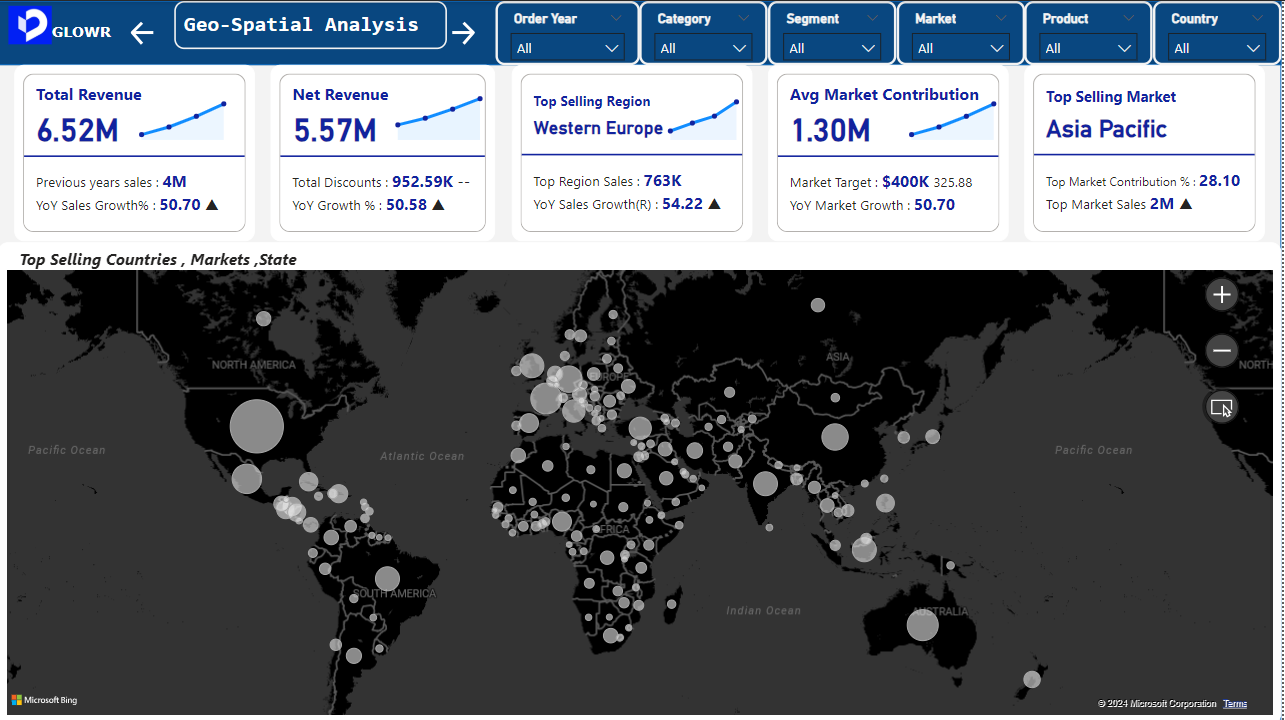

Layout of this report page (visuals, bound fields, positions):
{"tool":"powerbi","page":{"name":"GeoSpatial Sales Analysis ","canvas":[1280,720],"ordinal":3},"visuals":[{"type":"shape","box":[0,0,1280,720],"z":0},{"type":"shape","box":[0,0,1280,64],"z":1000},{"type":"image","box":[0,0,64,48],"z":2000},{"type":"textbox","box":[48,16,80,32],"z":3000},{"type":"slicer","fields":{"Values":["Category.Category"]},"box":[640,0,128,64],"z":4000},{"type":"slicer","fields":{"Values":["Market.Market"]},"box":[896,0,128,64],"z":5000},{"type":"slicer","fields":{"Values":["Segment.Segment"]},"box":[768,0,128,64],"z":6000},{"type":"slicer","fields":{"Values":["Products.Product"]},"box":[1024,0,128,64],"z":7000},{"type":"slicer","fields":{"Values":["Country.Country"]},"box":[1152,0,128,64],"z":8000},{"type":"slicer","fields":{"Values":["Date.Order Year"]},"box":[496,0,144,64],"z":9000},{"type":"textbox","box":[176,0,272,48],"z":10000},{"type":"cardVisual","fields":{"Data":["Fact Table.total sales"]},"box":[16,64,240,176],"z":11000},{"type":"lineChart","fields":{"Category":["Date.Order Year"],"Y":["Sum(Fact Table.Sales)"]},"box":[128,80,112,64],"z":12000},{"type":"cardVisual","fields":{"Data":["Category.Top Selling Region sales   :"]},"box":[512,64,240,176],"z":13000},{"type":"lineChart","fields":{"Category":["Date.Order Year"],"Y":["Category.Top Region  Sales :"]},"box":[656,80,96,64],"z":14000},{"type":"cardVisual","fields":{"Data":["Category.Top Selling Market"]},"box":[1024,64,240,176],"z":15000},{"type":"cardVisual","fields":{"Data":["Category.net sales"]},"box":[272,64,224,176],"z":16000},{"type":"lineChart","fields":{"Category":["Date.Order Year"],"Y":["Category.net sales"]},"box":[384,80,112,64],"z":17000},{"type":"cardVisual","fields":{"Data":["Category.Avg Market Contribution"]},"box":[768,64,240,176],"z":18000},{"type":"lineChart","fields":{"Category":["Date.Order Year"],"Y":["Category.Avg Market Contribution"]},"box":[896,80,112,64],"z":19000},{"type":"map","title":" ","fields":{"Category":["Country.Country","Market.Market","State.State"],"Size":["Fact Table.total sales"]},"box":[0,240,1280,480],"z":20000},{"type":"textbox","box":[16,240,336,48],"z":21000},{"type":"actionButton","box":[448,16,32,32],"z":22000},{"type":"actionButton","box":[128,16,48,32],"z":23000}]}

Visuals, with their boxes in screenshot pixels (x1, y1, x2, y2), scaled from the page's 1280x720 canvas onto the 1285x720 screenshot:
shape: [x1=0, y1=0, x2=1284, y2=719]
shape: [x1=0, y1=0, x2=1284, y2=64]
image: [x1=0, y1=0, x2=64, y2=48]
textbox: [x1=48, y1=16, x2=128, y2=48]
slicer - Category.Category: [x1=642, y1=0, x2=771, y2=64]
slicer - Market.Market: [x1=900, y1=0, x2=1028, y2=64]
slicer - Segment.Segment: [x1=771, y1=0, x2=900, y2=64]
slicer - Products.Product: [x1=1028, y1=0, x2=1156, y2=64]
slicer - Country.Country: [x1=1156, y1=0, x2=1284, y2=64]
slicer - Date.Order Year: [x1=498, y1=0, x2=642, y2=64]
textbox: [x1=177, y1=0, x2=450, y2=48]
cardVisual - Fact Table.total sales: [x1=16, y1=64, x2=257, y2=240]
lineChart - Date.Order Year x Sum(Fact Table.Sales): [x1=128, y1=80, x2=241, y2=144]
cardVisual - Category.Top Selling Region sales   :: [x1=514, y1=64, x2=755, y2=240]
lineChart - Date.Order Year x Category.Top Region  Sales :: [x1=659, y1=80, x2=755, y2=144]
cardVisual - Category.Top Selling Market: [x1=1028, y1=64, x2=1269, y2=240]
cardVisual - Category.net sales: [x1=273, y1=64, x2=498, y2=240]
lineChart - Date.Order Year x Category.net sales: [x1=386, y1=80, x2=498, y2=144]
cardVisual - Category.Avg Market Contribution: [x1=771, y1=64, x2=1012, y2=240]
lineChart - Date.Order Year x Category.Avg Market Contribution: [x1=900, y1=80, x2=1012, y2=144]
" " map: [x1=0, y1=240, x2=1284, y2=719]
textbox: [x1=16, y1=240, x2=353, y2=288]
actionButton: [x1=450, y1=16, x2=482, y2=48]
actionButton: [x1=128, y1=16, x2=177, y2=48]
